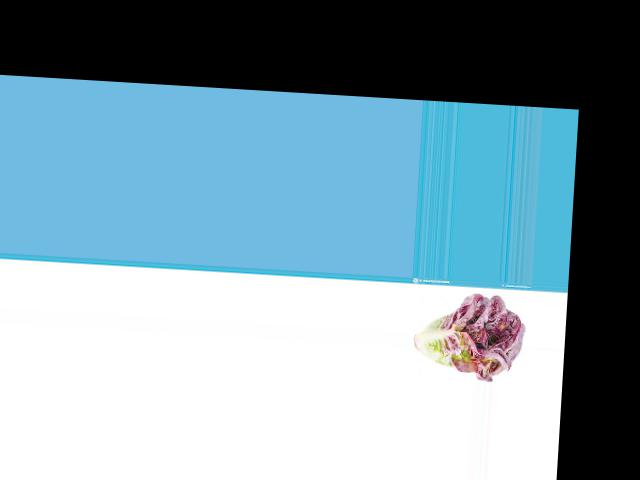lettuce: (410, 289, 525, 380)
